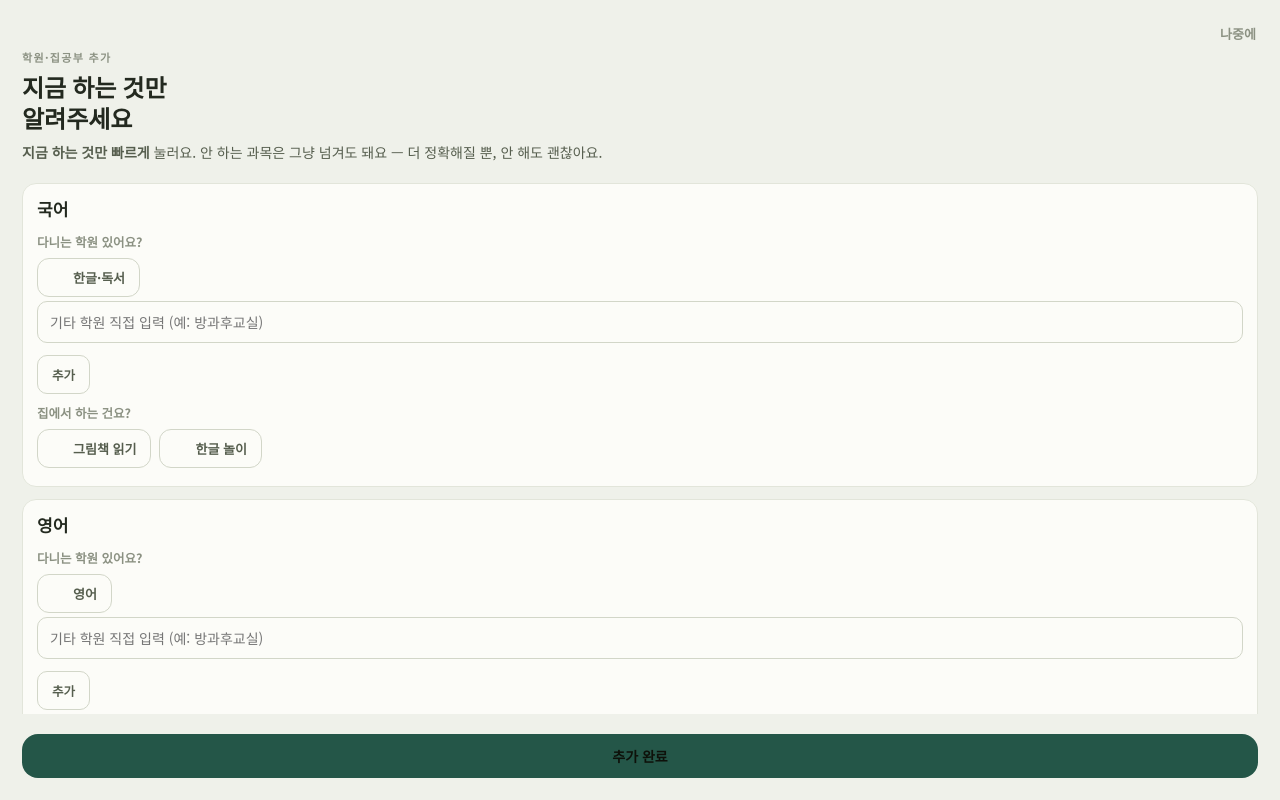
§06-C 학습 정교화 › ⭐ 학원 칩을 누르면 그 학원에 "숙제 있어요?" 토글이 뜬다
The width and height of the screenshot is (1280, 800).
Expected: the text "집에서 하는 숙제가 있어요" is not shown
Click the button "한글·독서". click: (89, 278)
box: [37,258,140,297]
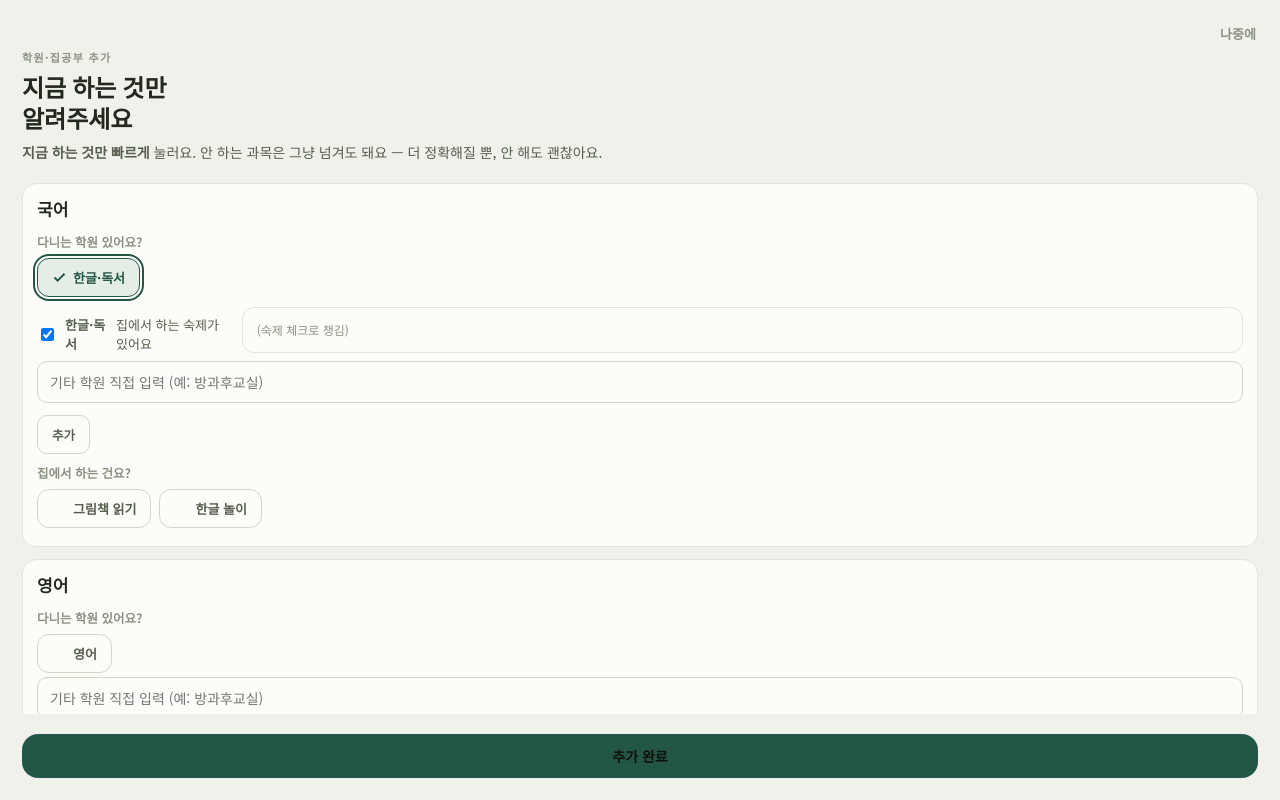
Now the text "한글·독서 집에서 하는 숙제가 있어요 (숙제 체크로 챙김)" is shown, box [37,307,1243,361]
